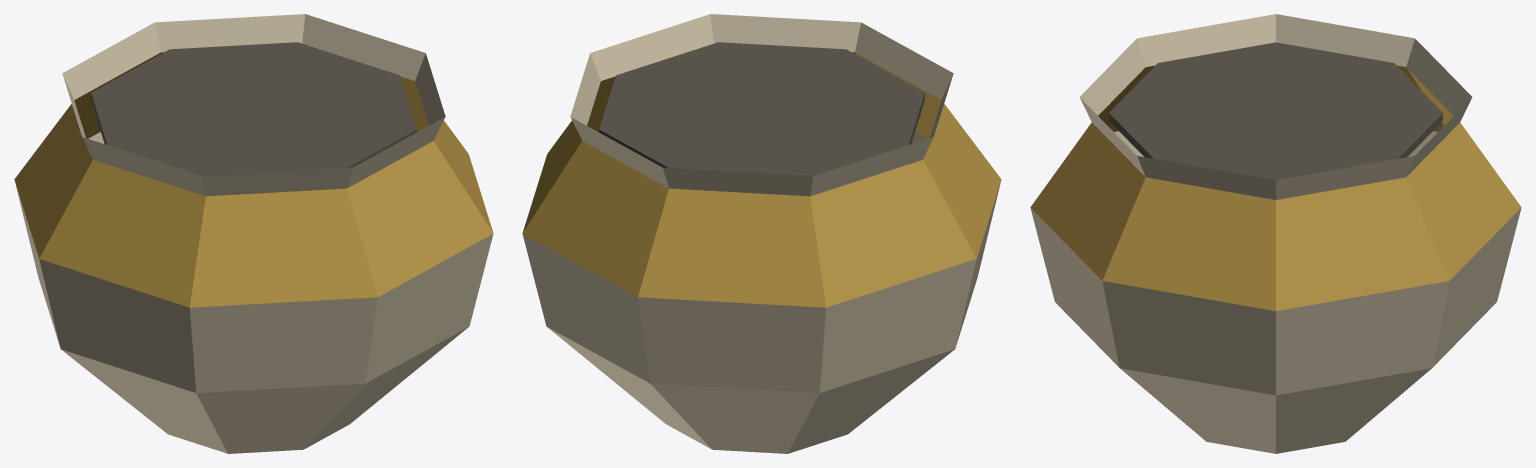
File: vase-07.glb
The picture shows the model from 3 angles, left to right: view 1: azimuth 30°, elevation 25°; view 2: azimuth 150°, elevation 25°; view 3: azimuth 270°, elevation 25°; orthographic projection.
Parts seen in each view (by area): view 1: vase_07; view 2: vase_07; view 3: vase_07.
Part boxes in pixels (<box>): vase_07: <box>14,14,493,453</box>; vase_07: <box>522,14,1001,453</box>; vase_07: <box>1030,14,1521,453</box>.
Size of the model in its own units: 0.2238 by 0.1586 by 0.2238.
